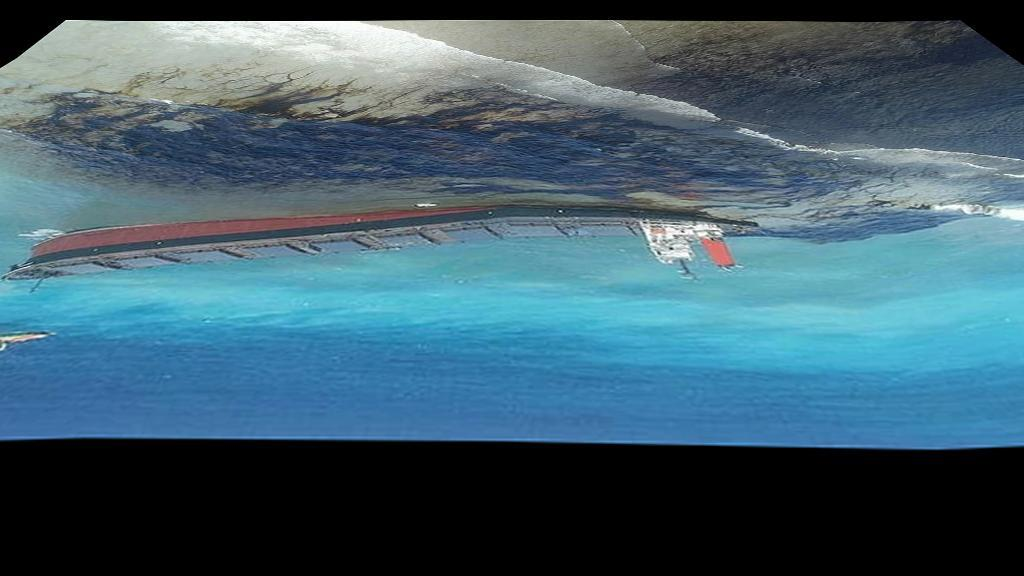Oil Pollution: (39, 49, 989, 199)
